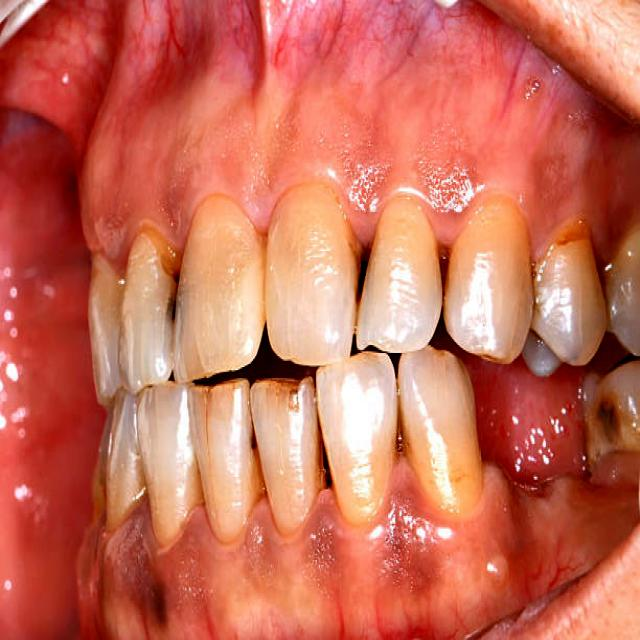calculus: (534, 218, 597, 312), (133, 227, 176, 317), (586, 395, 637, 453), (343, 212, 368, 304), (253, 378, 302, 395), (437, 237, 449, 295)
gingivitis: (81, 74, 620, 265), (78, 502, 543, 638)
